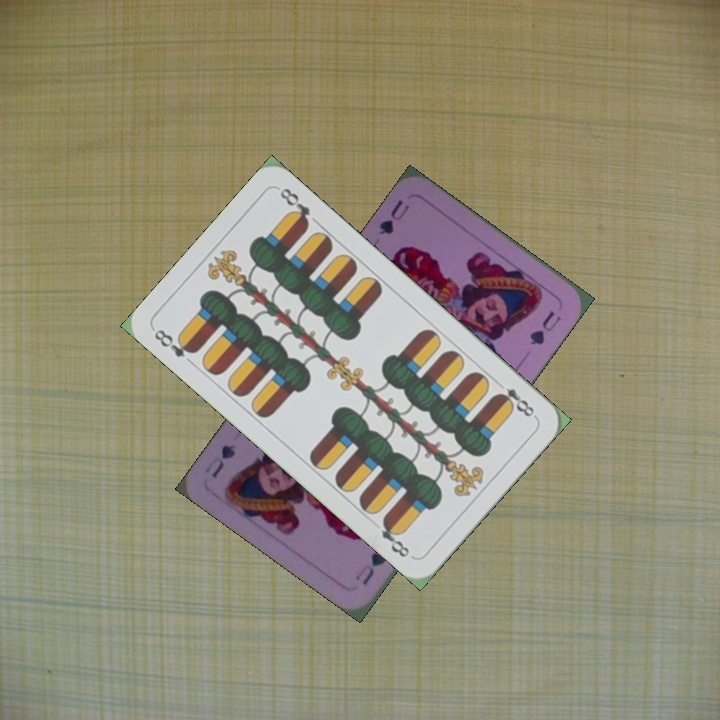E8: (491, 383, 539, 421), (150, 325, 200, 361)
GU: (374, 195, 413, 238), (351, 547, 388, 588)
